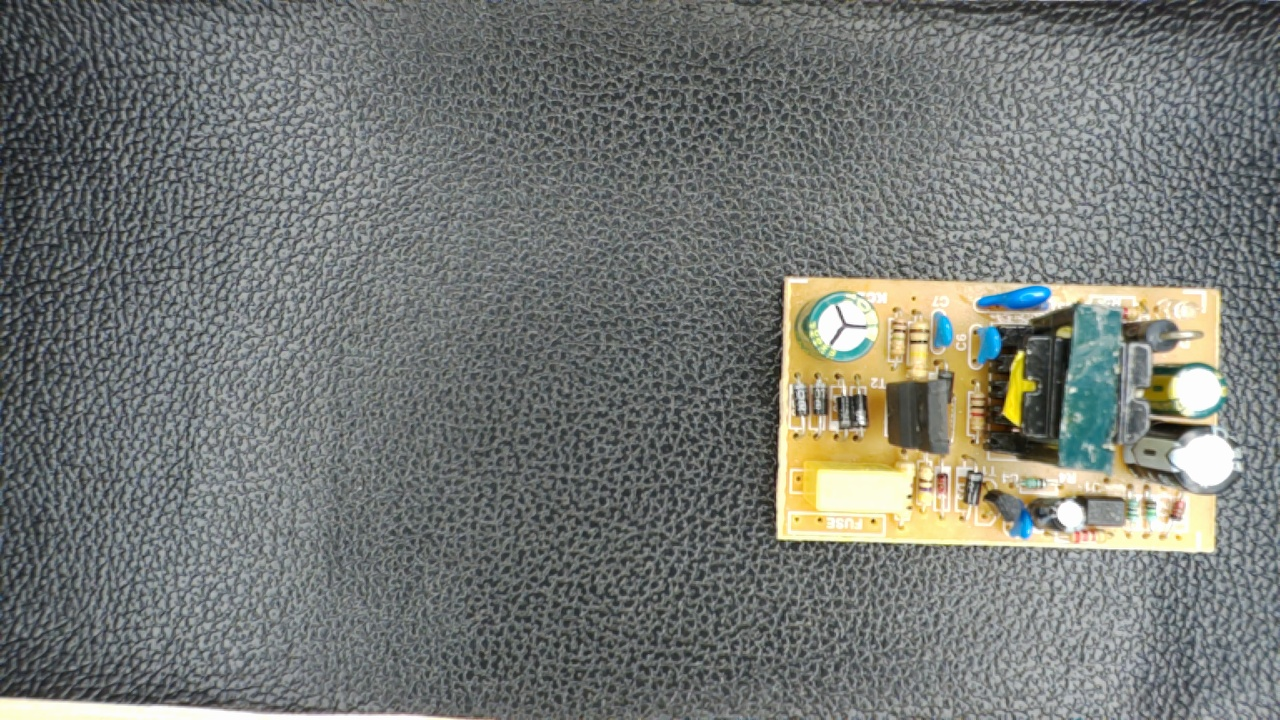hv_capacitor: (795, 288, 881, 360)
mov: (971, 282, 1061, 317)
optocoupler: (1079, 491, 1133, 528)
